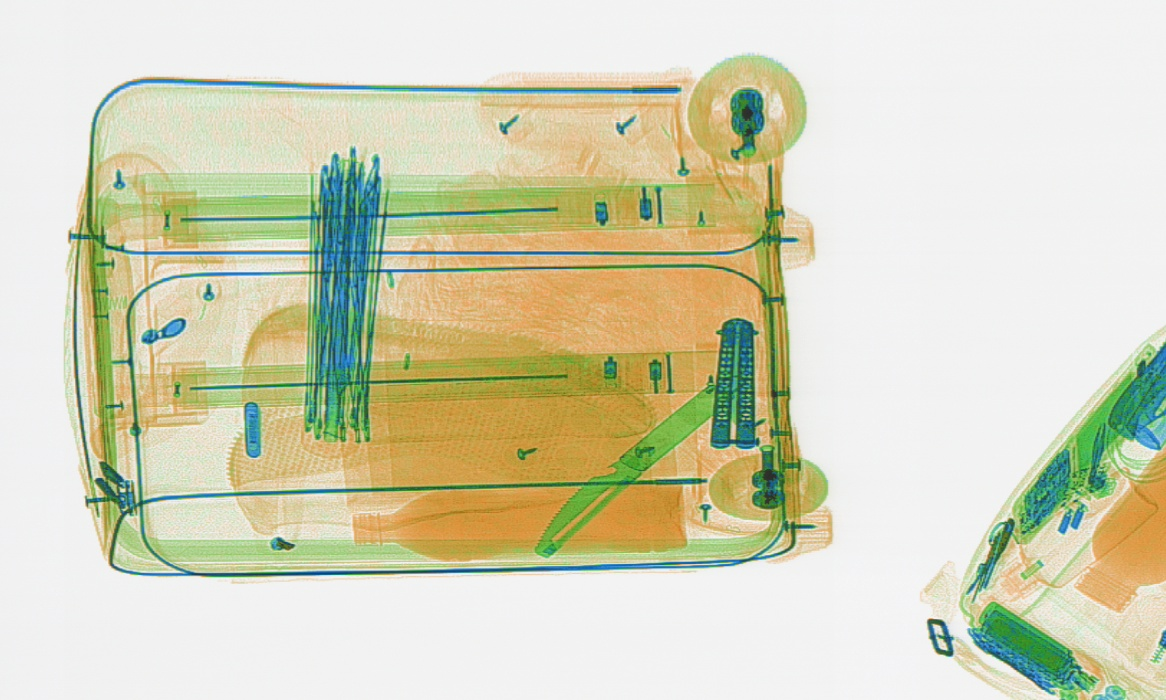knife: (530, 367, 757, 564), (701, 314, 763, 451)
powerbank: (970, 596, 1105, 697)
